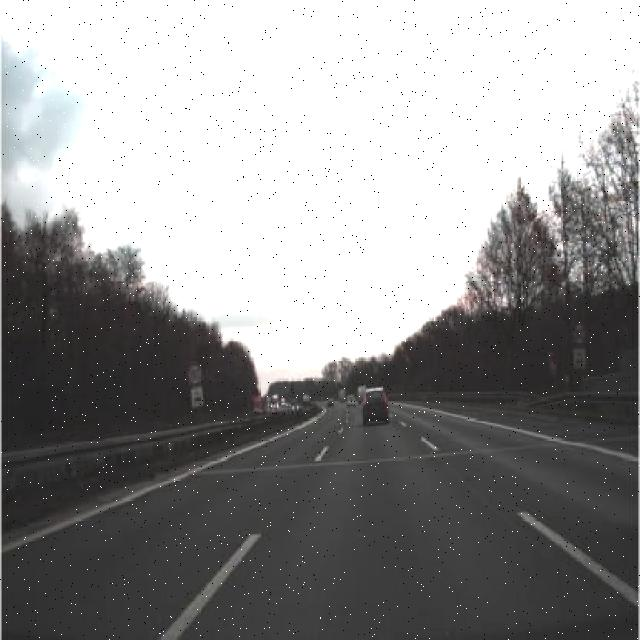Ograniczenie predkosci do 80: (570, 314, 588, 348), (187, 358, 204, 388)
